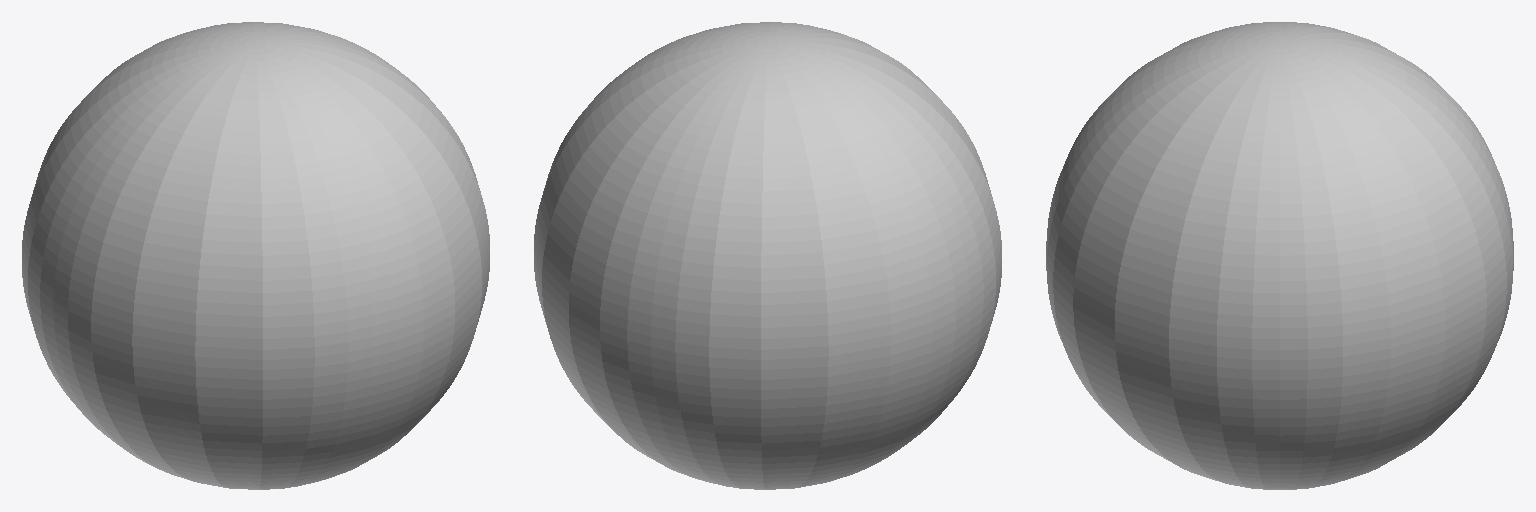
The model's file is planet1.obj.
The picture shows the model from 3 angles: view 1: azimuth 30°, elevation 25°; view 2: azimuth 150°, elevation 25°; view 3: azimuth 270°, elevation 25°; orthographic projection.
Parts seen in each view (by area): view 1: Planet1_SurfSphere.001; view 2: Planet1_SurfSphere.001; view 3: Planet1_SurfSphere.001.
Part boxes in pixels (x1,y1,x2,y2): Planet1_SurfSphere.001: (22,22,489,489); Planet1_SurfSphere.001: (534,22,1001,489); Planet1_SurfSphere.001: (1046,22,1513,489).
Bounding box in the file's own units: 720 × 720 × 720.